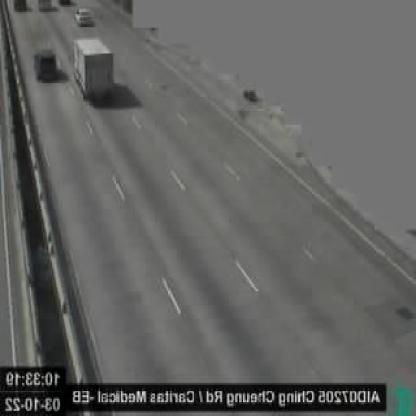Car: (76, 36, 114, 100), (35, 47, 57, 76)
